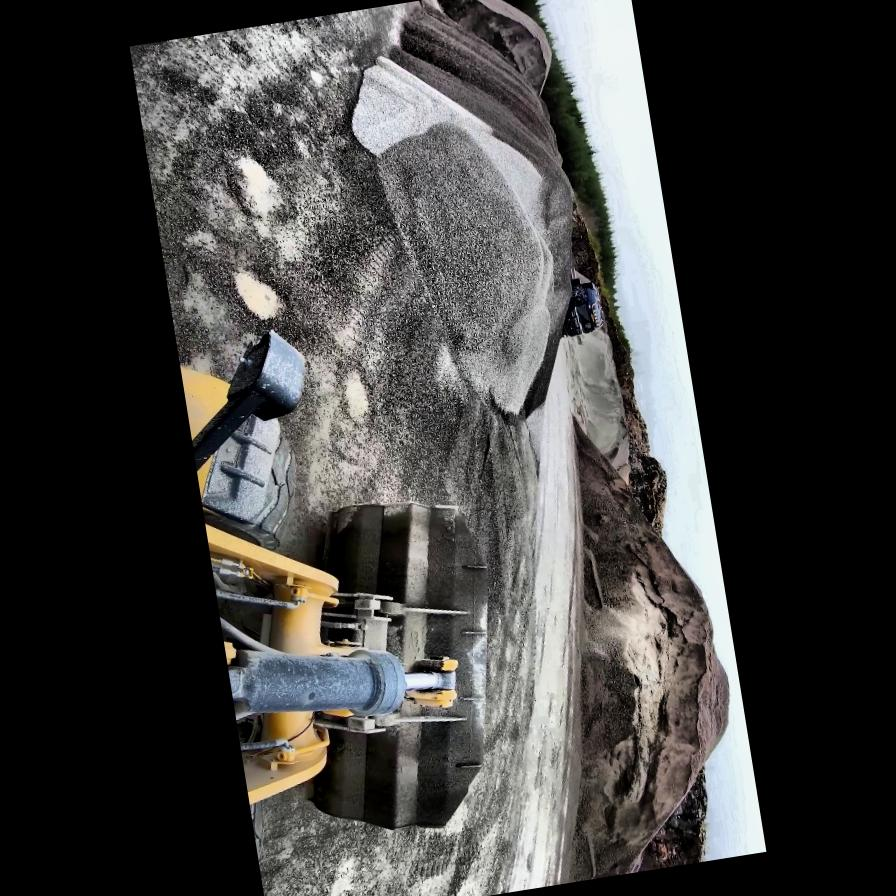anchor: (398, 650, 466, 713)
pile of gravel: (496, 394, 756, 882), (327, 0, 609, 444), (431, 0, 558, 109), (558, 308, 634, 462)
